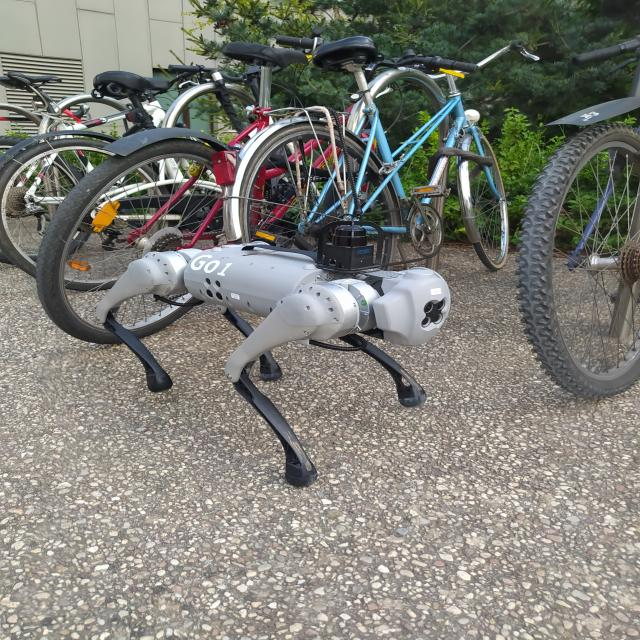unitree-go1-robot: (95, 210, 461, 498)
